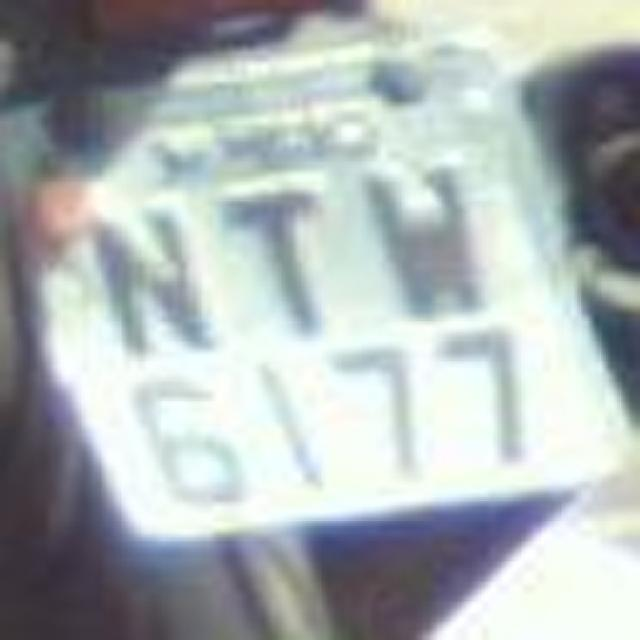1: (229, 340, 356, 500)
6: (104, 355, 271, 520)
7: (296, 325, 444, 500), (420, 300, 560, 468)
N: (75, 204, 220, 371)
T: (205, 175, 340, 340)
